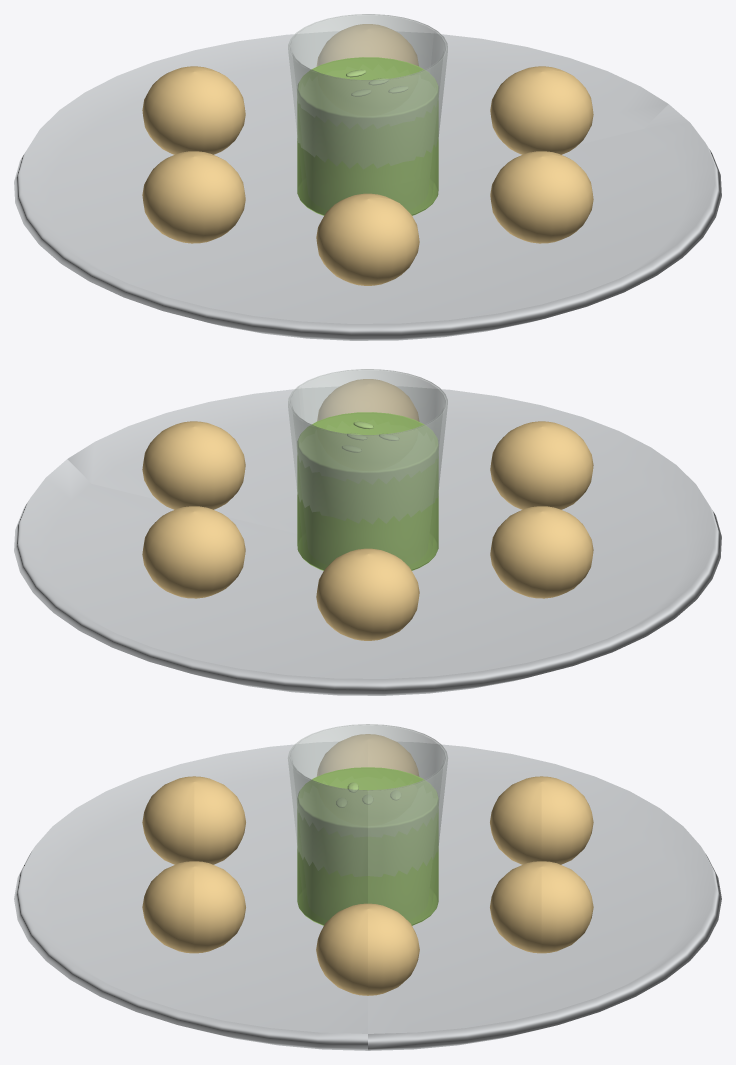
The model's file is pani-puri.glb.
The picture shows the model from 3 angles, top to bottom: view 1: azimuth 30°, elevation 25°; view 2: azimuth 150°, elevation 25°; view 3: azimuth 270°, elevation 25°; orthographic projection.
Parts seen in each view (by area): view 1: pani-puri; view 2: pani-puri; view 3: pani-puri.
Part boxes in pixels (x1=…): pani-puri: x1=14, y1=14, x2=721, y2=340; pani-puri: x1=14, y1=369, x2=721, y2=695; pani-puri: x1=14, y1=724, x2=721, y2=1050.
Bounding box in the file's own units: 0.3 × 0.074 × 0.3.
